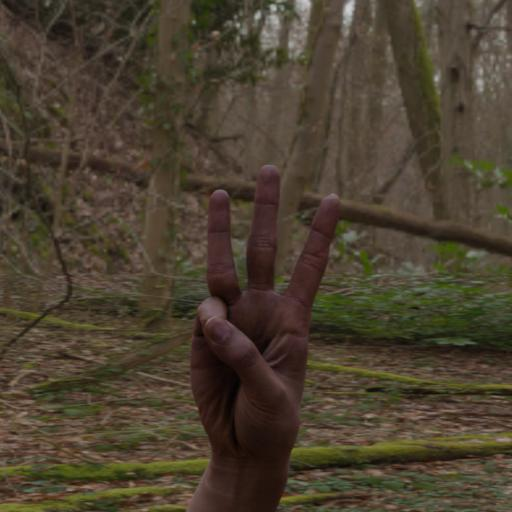W: (174, 154, 351, 512)
